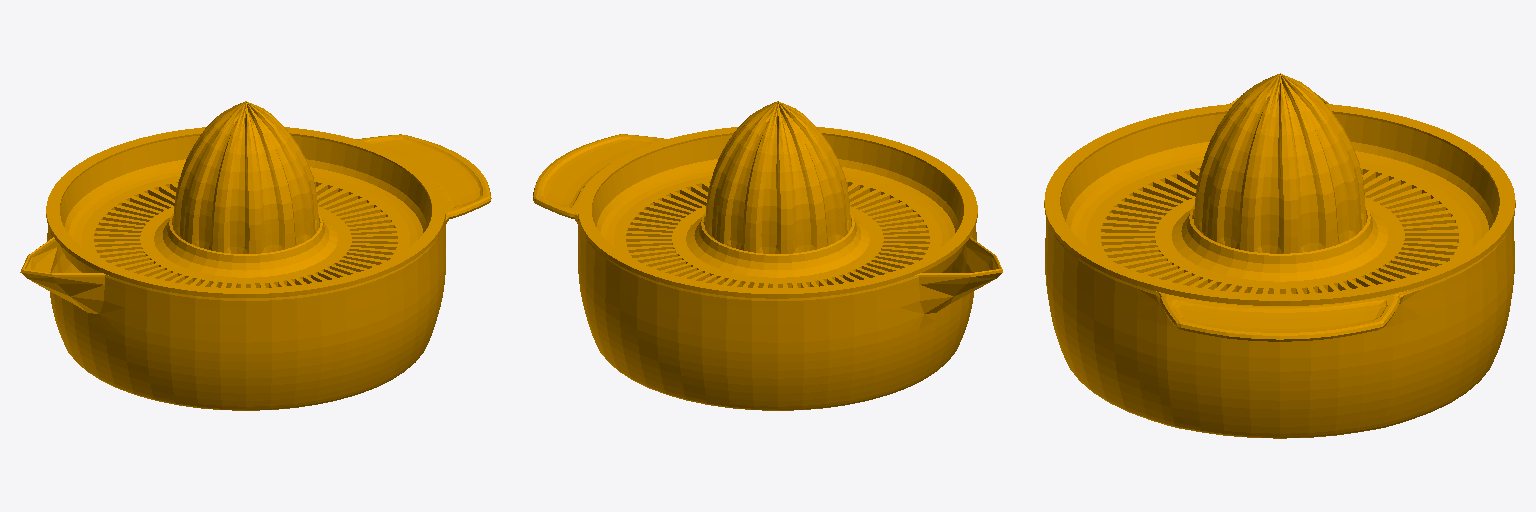
The robot description file, URDF, robot "none":
<robot name="none">
       <link name="none">
           <visual>
               <origin rpy="1.57 0 0" xyz="0 0 0" />
               <geometry>
                   <mesh filename="squeezer.obj" />
               </geometry>
           </visual>
          <collision>
              <geometry>
                  <box size="1.000000 0.496773 0.768951" />
              </geometry>
          </collision>

          <inertial>
            <mass value="0.0" />
            <inertia ixx="0.0" ixy="0.0" ixz="0.0" iyy="0.0" iyz="0.0" izz="0.0" />
          </inertial>
      </link>
  </robot>

--- Render facts (derived) ---
3 views of the same robot in one strip: view 1: azimuth 30°, elevation 25°; view 2: azimuth 150°, elevation 25°; view 3: azimuth 270°, elevation 25° (orthographic).
Robot: none — 1 links, 0 joints (none); root link none; default pose: every joint at zero.
Links seen in each view (by area): view 1: none; view 2: none; view 3: none.
Link boxes in pixels (box(x1,y1,x2,y2)): none: box(20, 101, 491, 410); none: box(533, 101, 1002, 410); none: box(1044, 73, 1515, 438).
Size in the robot's own frame: 1 by 0.769 by 0.497 metres.
Meshes: 1 distinct files referenced, 1 mesh visuals loaded (1 OBJ).